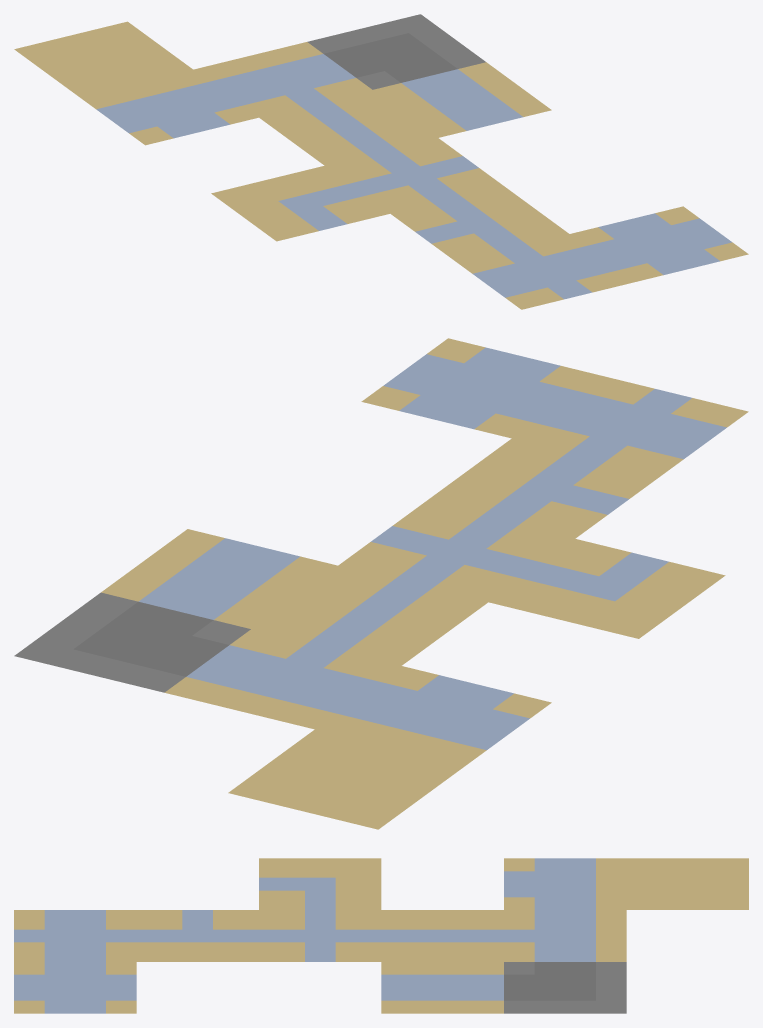
The model's file is Road_Pieces.fbx.
The picture shows the model from 3 angles, top to bottom: view 1: azimuth 30°, elevation 25°; view 2: azimuth 150°, elevation 25°; view 3: azimuth 270°, elevation 25°; orthographic projection. The views are drawn at different scales.
Parts seen in each view (by area): view 1: Wide_Thin_Cross, Wide_Straight, Thin_Tee, Ground1, Wide_Corner, Wide_Tee, Thin_Cross, Wide_Cross, Thin_Straight, Thin_Corner, Wide_Thin_Tee; view 2: Ground1, Wide_Cross, Wide_Thin_Tee, Thin_Straight, Thin_Tee, Thin_Corner, Wide_Corner, Wide_Tee, Thin_Cross, Wide_Thin_Cross, Wide_Straight; view 3: Ground1, Wide_Straight, Wide_Corner, Wide_Tee, Wide_Cross, Thin_Straight, Thin_Corner, Thin_Tee, Thin_Cross, Wide_Thin_Tee, Wide_Thin_Cross.
Boxes of the visible parts, bbox=[...] form: Wide_Thin_Cross: bbox=[456, 234, 634, 309]; Wide_Straight: bbox=[373, 62, 551, 137]; Thin_Tee: bbox=[390, 186, 568, 261]; Ground1: bbox=[14, 21, 192, 97]; Wide_Corner: bbox=[307, 14, 485, 89]; Wide_Tee: bbox=[80, 69, 258, 145]; Thin_Cross: bbox=[325, 138, 503, 213]; Wide_Cross: bbox=[570, 206, 748, 281]; Thin_Straight: bbox=[259, 90, 437, 165]; Thin_Corner: bbox=[211, 166, 389, 241]; Wide_Thin_Tee: bbox=[193, 42, 372, 117]; Ground1: bbox=[228, 729, 464, 829]; Wide_Cross: bbox=[361, 338, 597, 438]; Wide_Thin_Tee: bbox=[164, 629, 400, 729]; Thin_Straight: bbox=[251, 565, 487, 665]; Thin_Tee: bbox=[425, 438, 661, 538]; Thin_Corner: bbox=[489, 539, 725, 638]; Wide_Corner: bbox=[14, 592, 250, 692]; Wide_Tee: bbox=[315, 666, 551, 765]; Thin_Cross: bbox=[338, 502, 574, 602]; Wide_Thin_Cross: bbox=[512, 375, 748, 474]; Wide_Straight: bbox=[101, 529, 337, 628]; Ground1: bbox=[626, 858, 748, 909]; Wide_Straight: bbox=[381, 962, 503, 1013]; Wide_Corner: bbox=[504, 962, 626, 1013]; Wide_Tee: bbox=[504, 858, 626, 909]; Wide_Cross: bbox=[14, 962, 136, 1013]; Thin_Straight: bbox=[381, 910, 503, 961]; Thin_Corner: bbox=[259, 858, 381, 909]; Thin_Tee: bbox=[136, 910, 258, 961]; Thin_Cross: bbox=[259, 910, 381, 961]; Wide_Thin_Tee: bbox=[504, 910, 626, 961]; Wide_Thin_Cross: bbox=[14, 910, 136, 961].
Size of the model in its own units: 270 by 2e-14 by 540.
